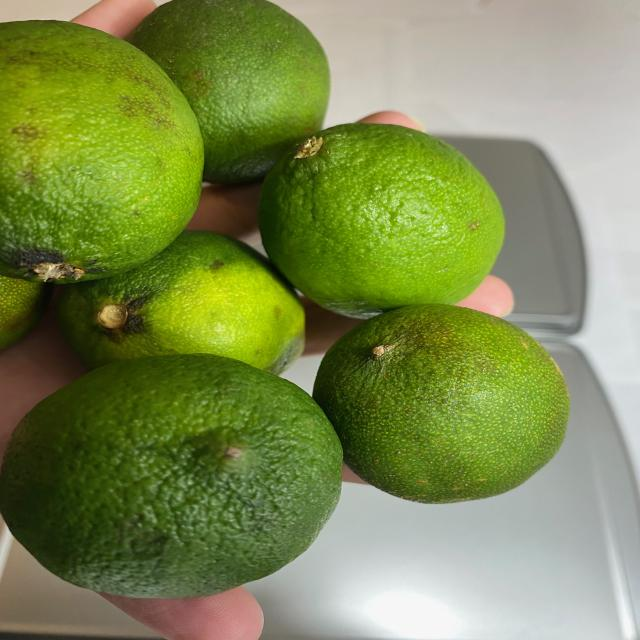lemon: (13, 6, 580, 600)
